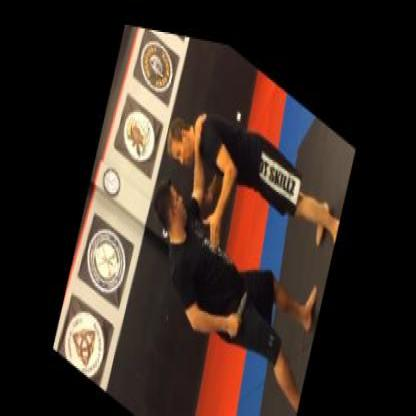knife: (226, 271, 249, 337)
